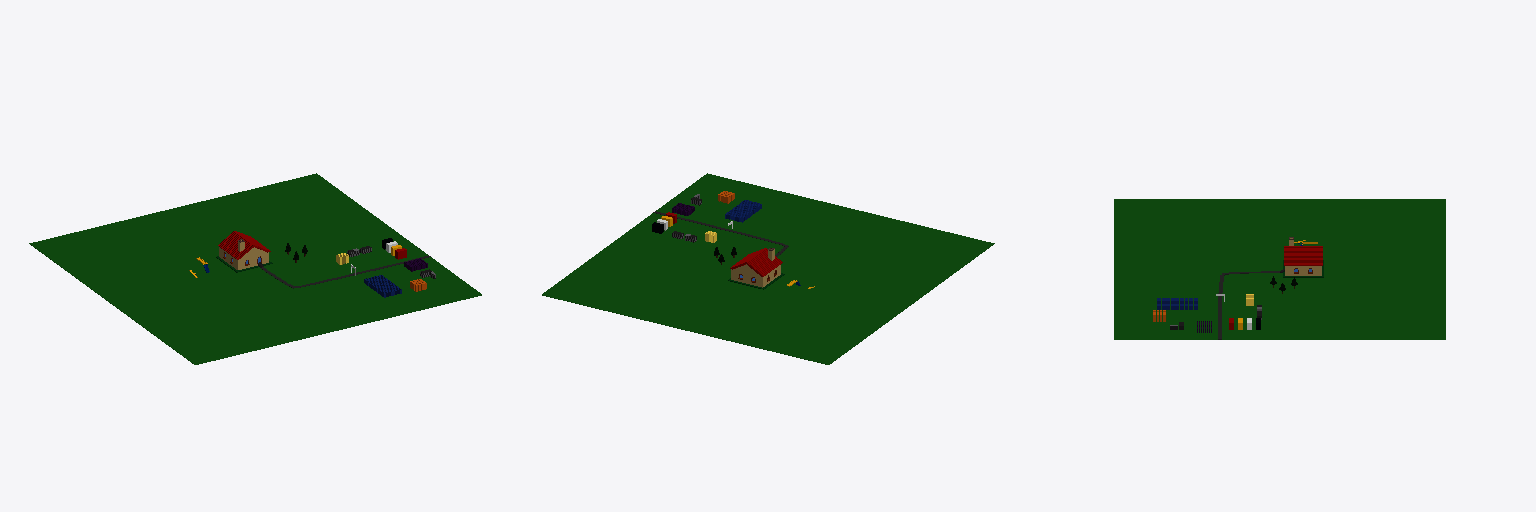
File: happyhome.obj
3 renders of one model, left to right at view 1: azimuth 30°, elevation 25°; view 2: azimuth 150°, elevation 25°; view 3: azimuth 270°, elevation 25°, orthographic.
Parts seen in each view (by area): view 1: Base1; view 2: Base1; view 3: Base1.
Part boxes in pixels (x1,y1,x2,y2): Base1: (29,173,481,364); Base1: (542,173,994,364); Base1: (1114,199,1445,339).
Bounding box in the file's own units: 512 × 46 × 512.